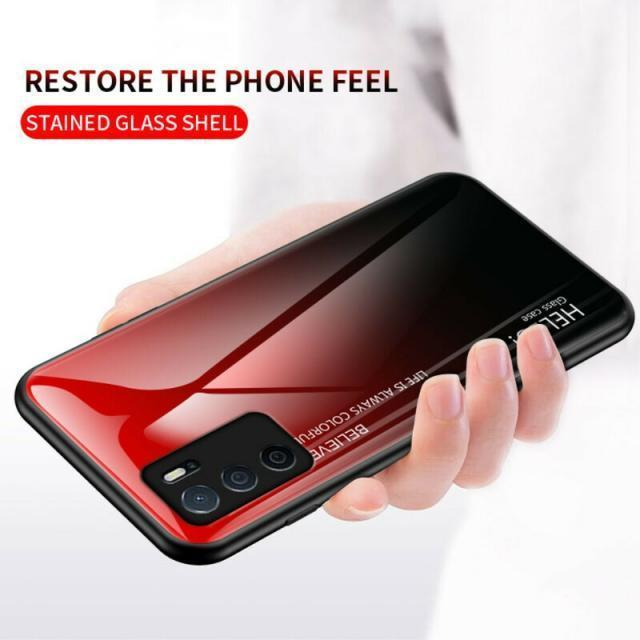phone: (15, 168, 635, 567)
